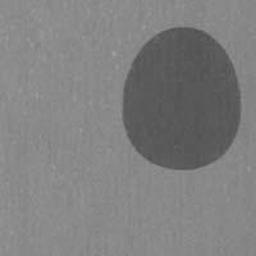Oil spot: (120, 27, 243, 172)
